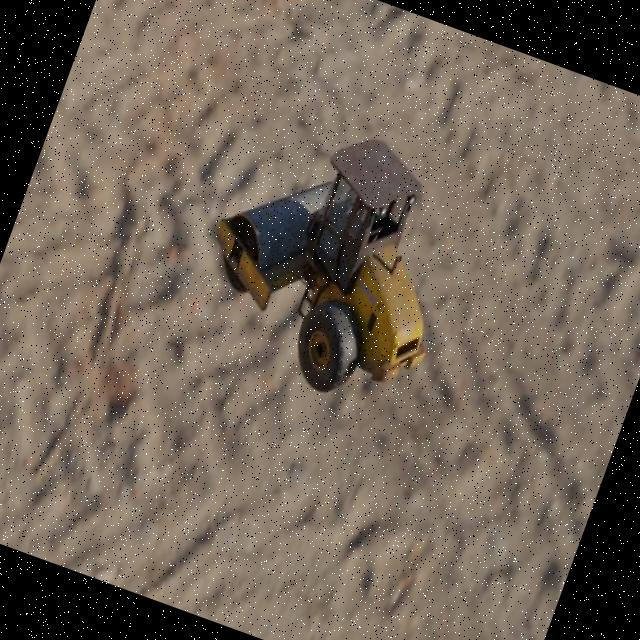Roller: (176, 96, 488, 422)
